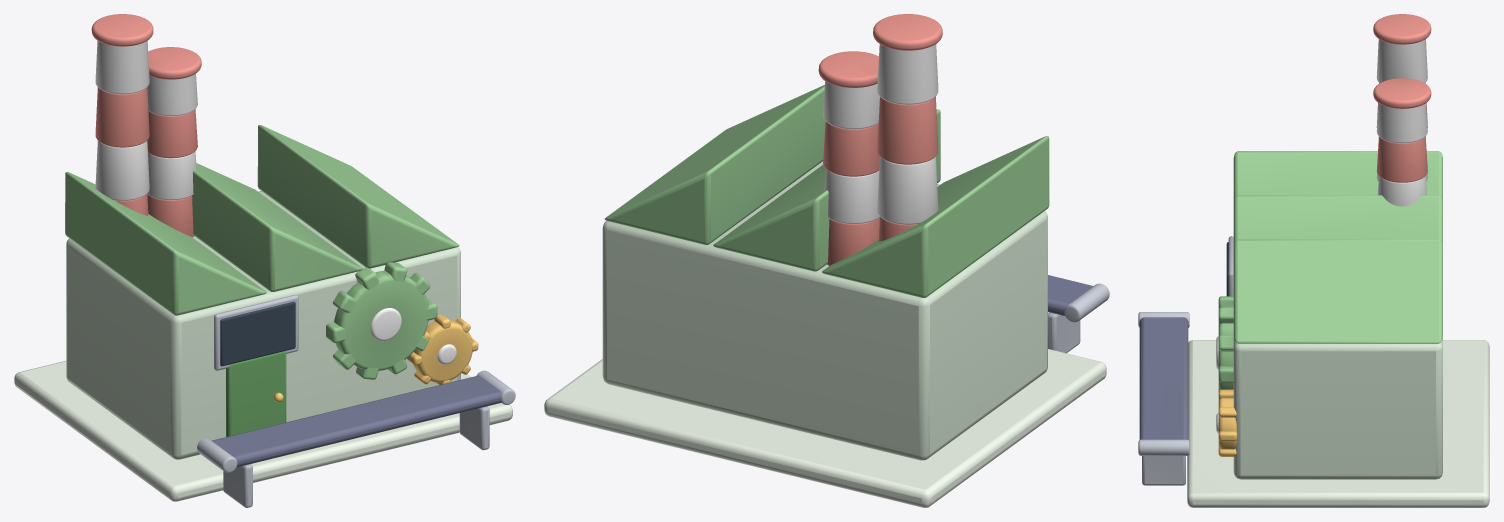
The model's file is factory.glb.
The picture shows the model from 3 angles, left to right: view 1: azimuth 30°, elevation 25°; view 2: azimuth 150°, elevation 25°; view 3: azimuth 270°, elevation 25°; orthographic projection. The views are drawn at different scales.
Parts seen in each view (by area): view 1: hall, base, saw_2, saw_0, saw_1, belt, gear_big_disc, door, screen, stack_0_2, stack_0_1, gear_big (+14 smaller); view 2: hall, base, saw_2, saw_0, saw_1, stack_0_2, stack_0_1, stack_0_3, stack_1_2, stack_1_1, stack_1_3, stack_0_rim (+5 smaller); view 3: hall, saw_2, base, saw_1, saw_0, belt, stack_1_2, stack_0_3, stack_1_3, stack_1_rim, stack_0_rim, leg_1.3 (+6 smaller).
Boxes of the visible parts, x1,y1,x2,y2 form: hall: [66, 191, 460, 459]; base: [14, 361, 512, 501]; saw_2: [257, 125, 459, 268]; saw_0: [65, 172, 266, 315]; saw_1: [192, 163, 362, 291]; belt: [211, 375, 501, 467]; gear_big_disc: [334, 270, 428, 370]; door: [226, 351, 286, 436]; screen: [220, 301, 295, 366]; stack_0_2: [95, 87, 149, 147]; stack_0_1: [95, 140, 149, 200]; gear_big: [326, 262, 437, 379]; hall: [602, 161, 1047, 460]; base: [544, 349, 1106, 507]; saw_2: [604, 85, 825, 244]; saw_0: [822, 136, 1049, 297]; saw_1: [713, 109, 940, 271]; stack_0_2: [877, 96, 938, 164]; stack_0_1: [877, 156, 938, 224]; stack_0_3: [877, 44, 938, 104]; stack_1_2: [823, 121, 879, 176]; stack_1_1: [824, 169, 879, 223]; stack_1_3: [823, 81, 879, 129]; stack_0_rim: [873, 14, 942, 50]; hall: [1233, 336, 1442, 479]; saw_2: [1233, 239, 1442, 343]; base: [1187, 340, 1489, 507]; saw_1: [1233, 195, 1442, 245]; saw_0: [1233, 151, 1442, 201]; belt: [1139, 317, 1188, 439]; stack_1_2: [1376, 137, 1427, 182]; stack_0_3: [1376, 39, 1427, 83]; stack_1_3: [1376, 103, 1427, 143]; stack_1_rim: [1373, 78, 1431, 108]; stack_0_rim: [1373, 14, 1431, 44]; leg_1.3: [1142, 456, 1185, 485].
Size of the model in its own units: 3.2 by 3.39 by 3.02.
